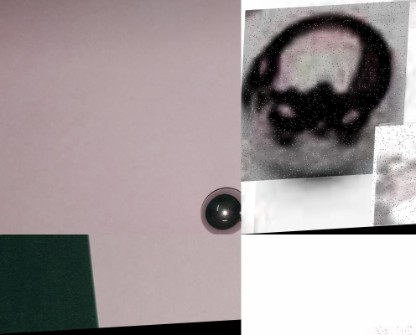ironball: (241, 4, 410, 184), (373, 125, 415, 230), (196, 183, 244, 233)
